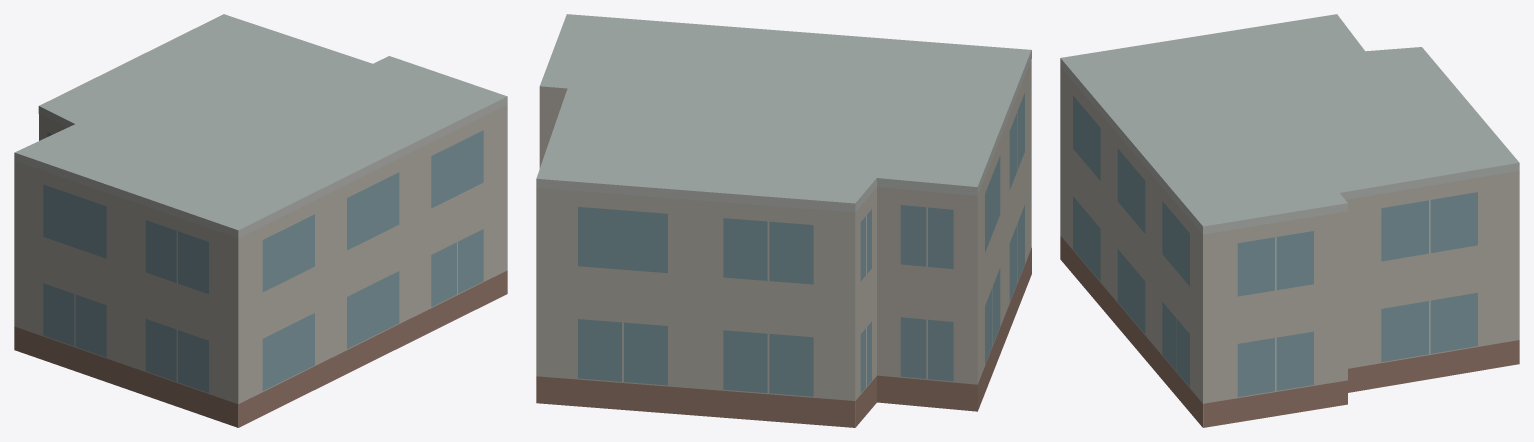
The model's file is survey-upis-33047092.glb.
3 views of the same model, side by side, from view 1: azimuth 30°, elevation 25°; view 2: azimuth 150°, elevation 25°; view 3: azimuth 270°, elevation 25° (orthographic). The views are drawn at different scales.
Parts seen in each view (by area): view 1: survey-upis-33047092.tmp; view 2: survey-upis-33047092.tmp; view 3: survey-upis-33047092.tmp.
Boxes of the visible parts, x1,y1,x2,y2 form: survey-upis-33047092.tmp: (14, 14, 507, 427); survey-upis-33047092.tmp: (536, 14, 1031, 427); survey-upis-33047092.tmp: (1060, 14, 1519, 427).
Bounding box in the file's own units: 13.82 × 6.1 × 12.62.
